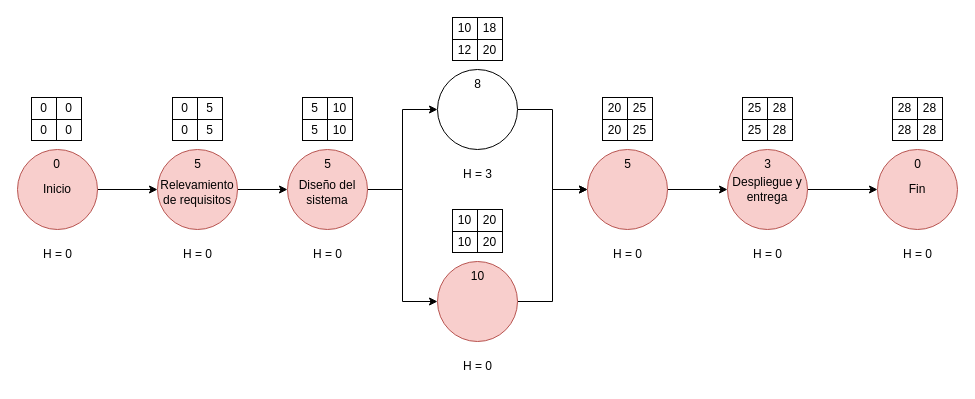
This 975x399 diagram has some shape labels left out. The box of each missing label's shape, as (x1, y1, x2, y2) in pixels:
Desarrollo Backend: (436, 68, 518, 150)
Desarrollo Frontend: (436, 260, 518, 342)
Integración y pruebas: (586, 148, 668, 230)
